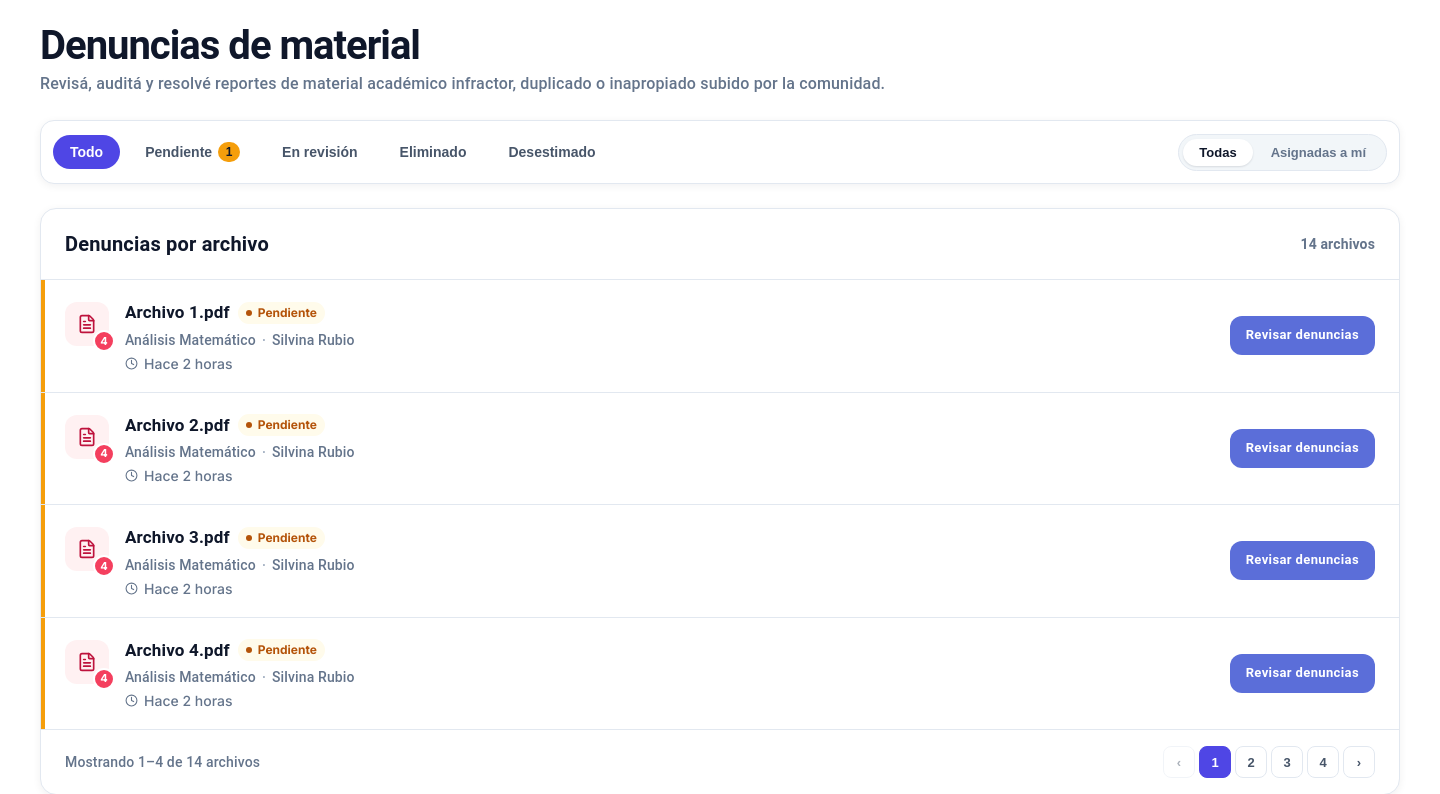
Test: AdminMaterialReportsPage › abre el detalle y guarda la selección en la URL
Expected: the text "Archivo 1.pdf" is shown, [125,300,230,326]
Click the button "Revisar denuncias" in the row of "Archivo 1.pdf" at (1302, 336), box [1230,316,1375,355]
(page scrolled)
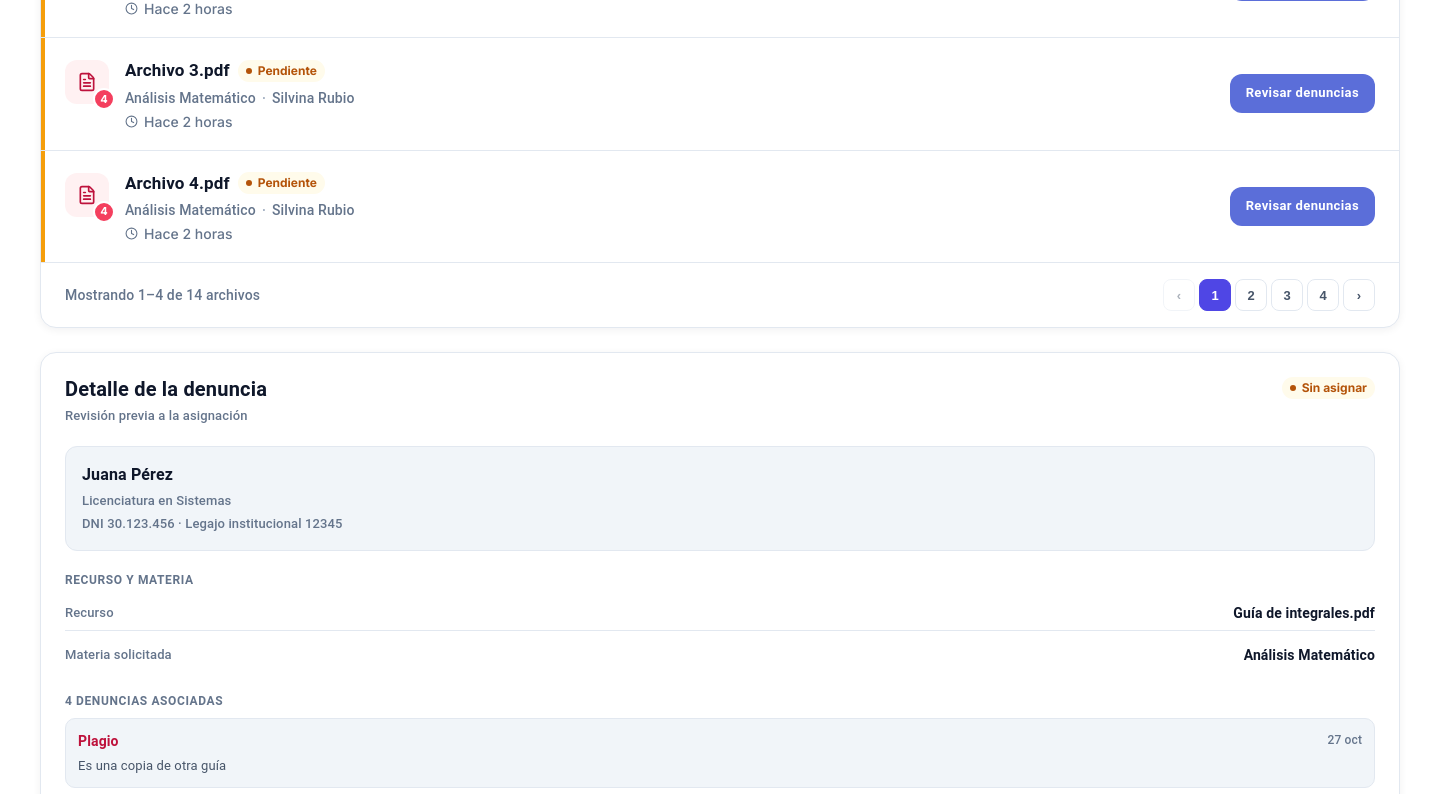
Expected: the heading "Detalle de la denuncia" is shown, [65,377,267,402]
